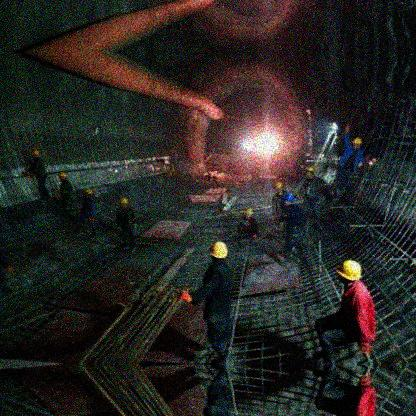helmet: (336, 258, 367, 287), (210, 242, 227, 262), (351, 136, 367, 154), (243, 207, 256, 222), (273, 179, 285, 193), (304, 162, 316, 175), (31, 146, 44, 158), (85, 189, 97, 198), (58, 170, 69, 177), (119, 196, 128, 203)
